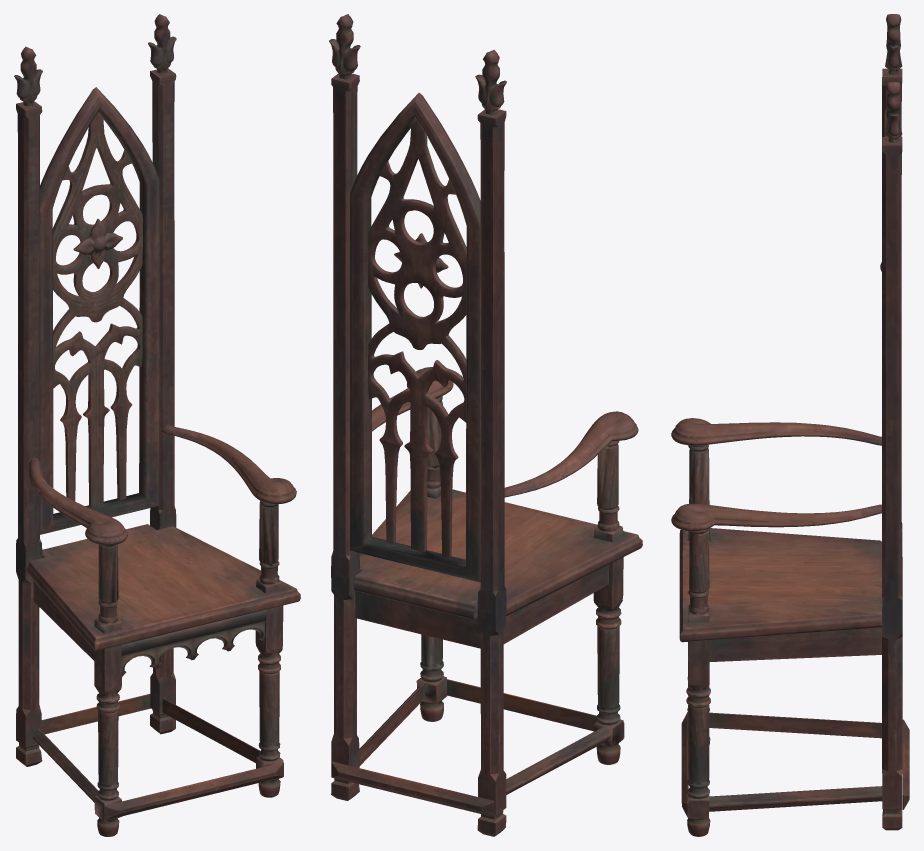
The model's file is WoodenChair_01.glb.
3 renders of one model, left to right at view 1: azimuth 30°, elevation 25°; view 2: azimuth 150°, elevation 25°; view 3: azimuth 270°, elevation 25°, orthographic. The views are drawn at different scales.
Parts seen in each view (by area): view 1: WoodenChair_01; view 2: WoodenChair_01; view 3: WoodenChair_01.
Part boxes in pixels (x1,y1,x2,y2): WoodenChair_01: (14, 14, 300, 836); WoodenChair_01: (329, 14, 642, 836); WoodenChair_01: (671, 14, 909, 836).
Bounding box in the file's own units: 0.6881 × 2.27 × 0.6584.
Materials: 1 (1 with a texture image).
